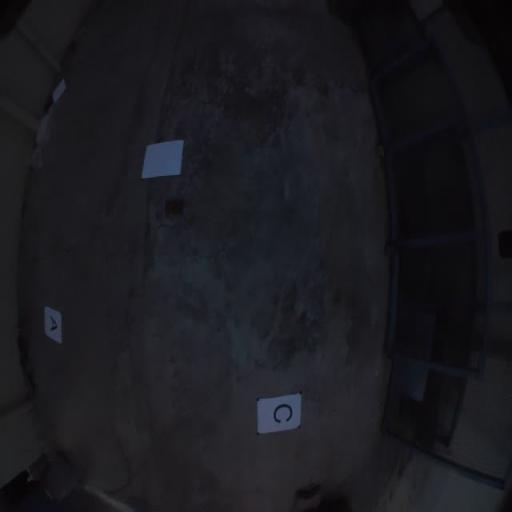A: (44, 306, 62, 345)
C: (256, 392, 302, 434)
